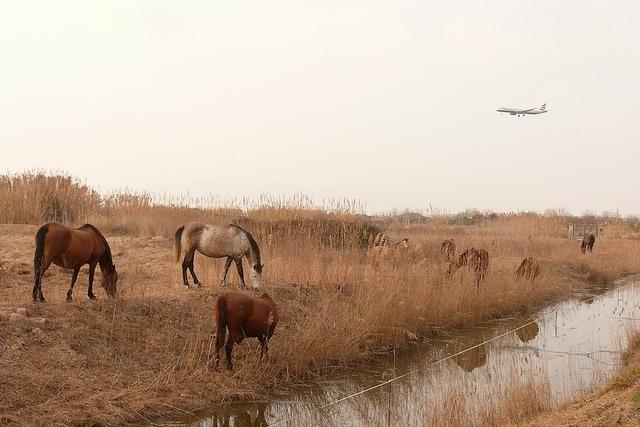airplane: (493, 98, 552, 118)
